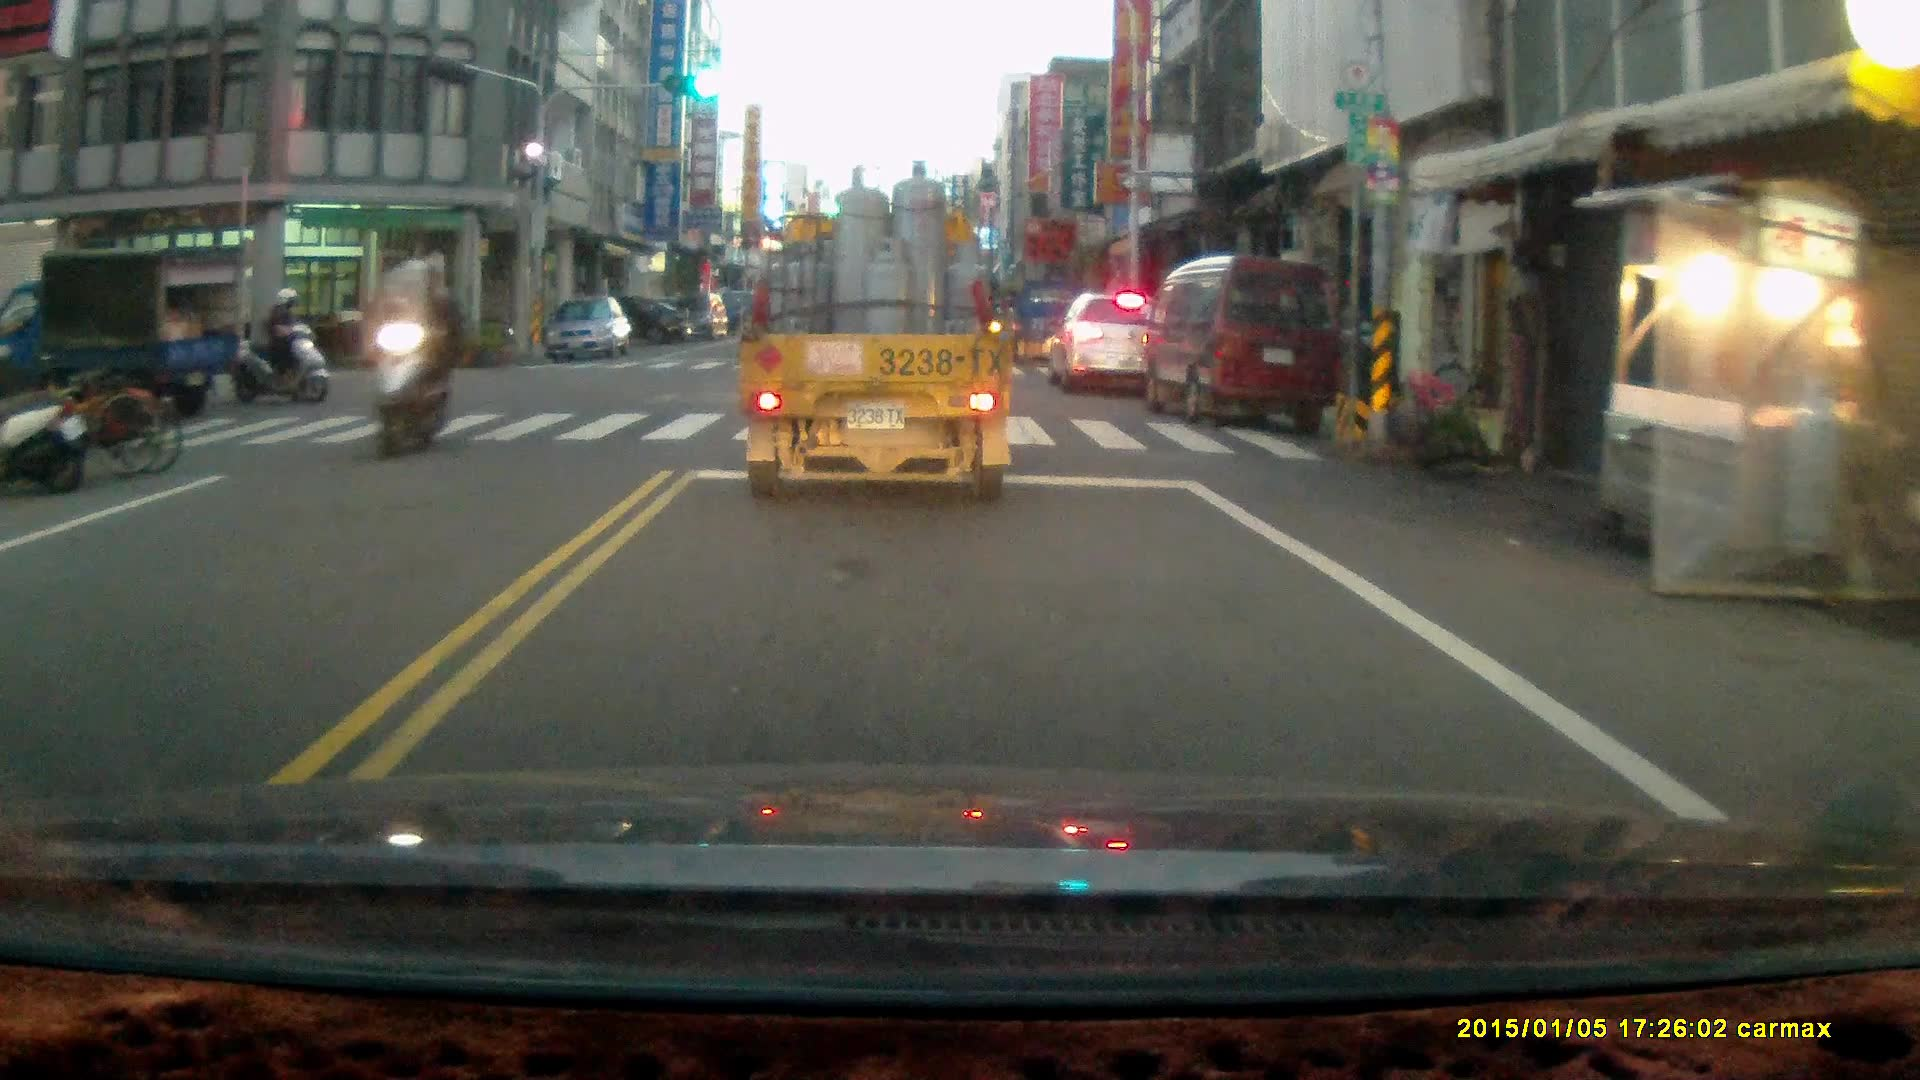rider: (367, 254, 463, 454), (229, 284, 330, 404)
vehicle: (742, 168, 1016, 506), (4, 247, 231, 424), (1140, 257, 1346, 430), (1044, 290, 1175, 400), (569, 299, 692, 357), (545, 295, 636, 360), (645, 292, 727, 340)
